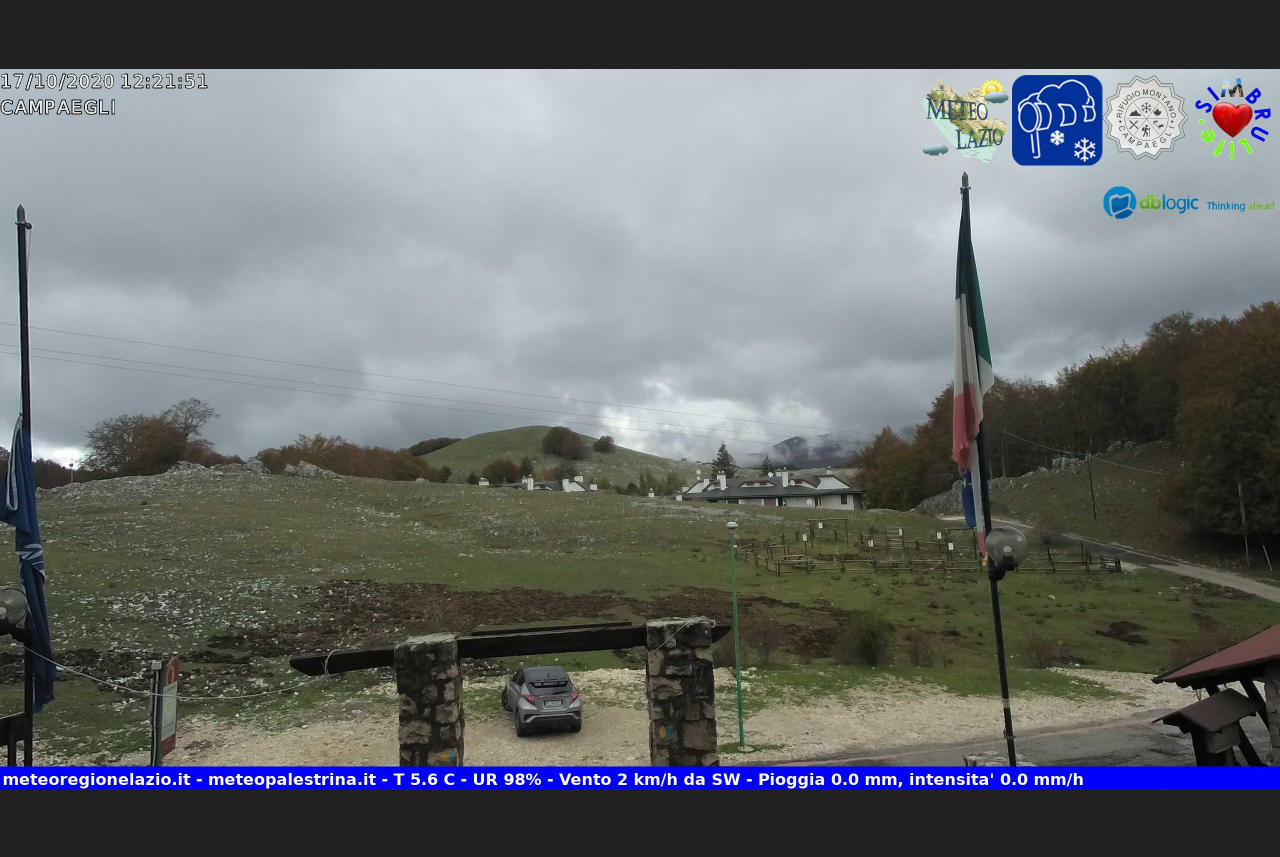no: (2, 409, 65, 708), (947, 177, 994, 476), (957, 398, 997, 561)
